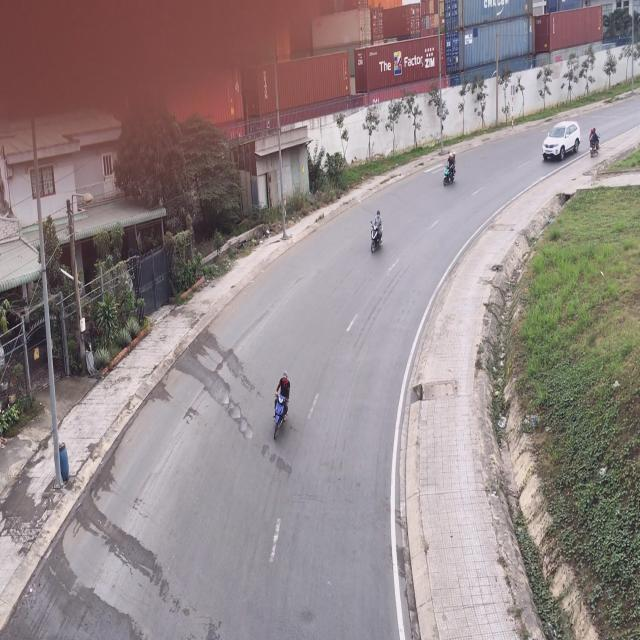car: (542, 120, 580, 164)
motorbike: (274, 374, 292, 444), (367, 207, 383, 256), (442, 150, 457, 187), (589, 127, 601, 157)
